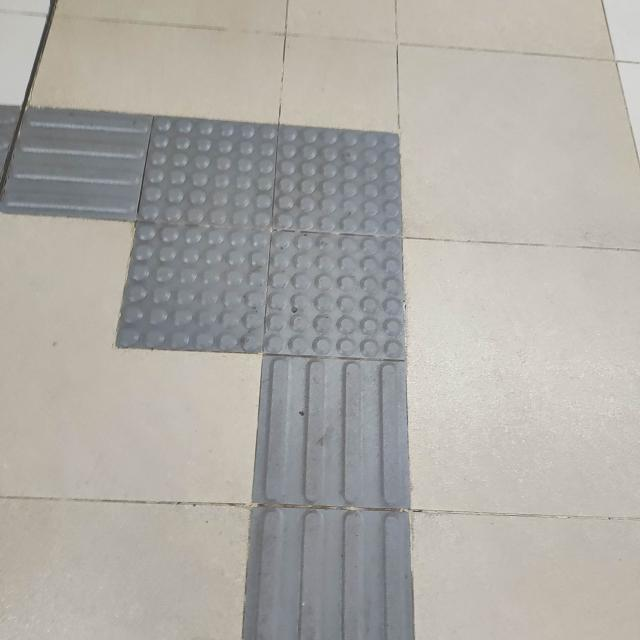kiri: (0, 50, 486, 406)
